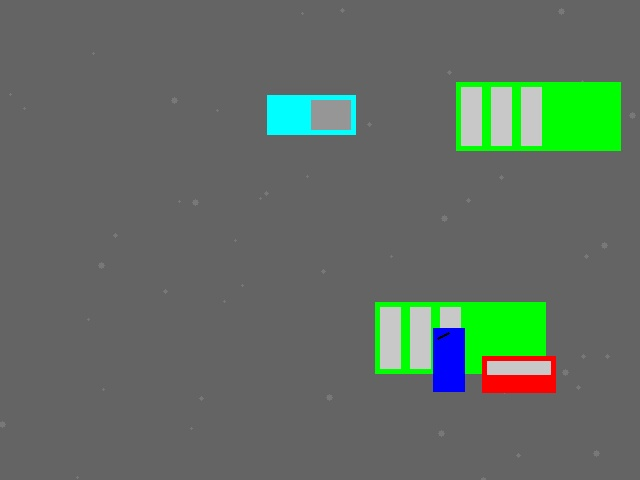bus: (375, 302, 545, 373), (456, 82, 620, 150)
car: (482, 356, 555, 392)
motorcycle: (433, 328, 464, 391)
truck: (267, 95, 355, 134)
